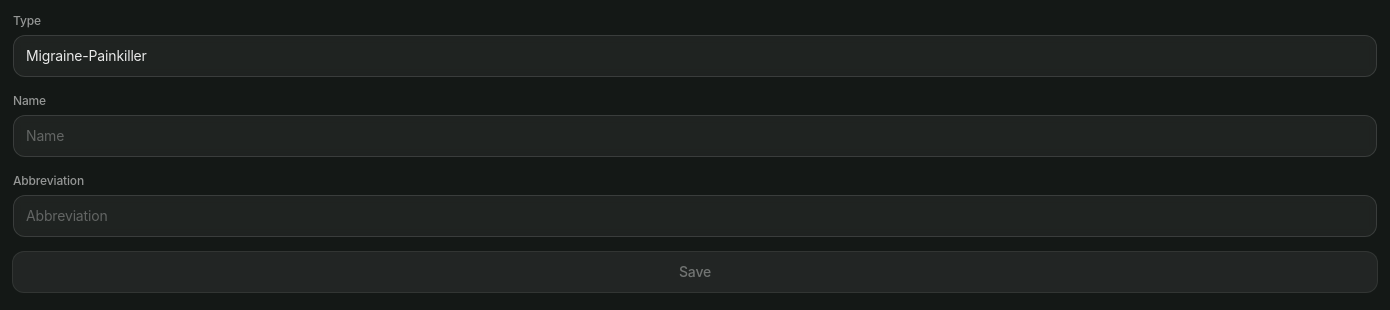
<AddMedicineForm /> › disables button while submitting
Type "Test medicine" into the field labelled "Name". click: (695, 136)
box: 13,115 -> 1377,157
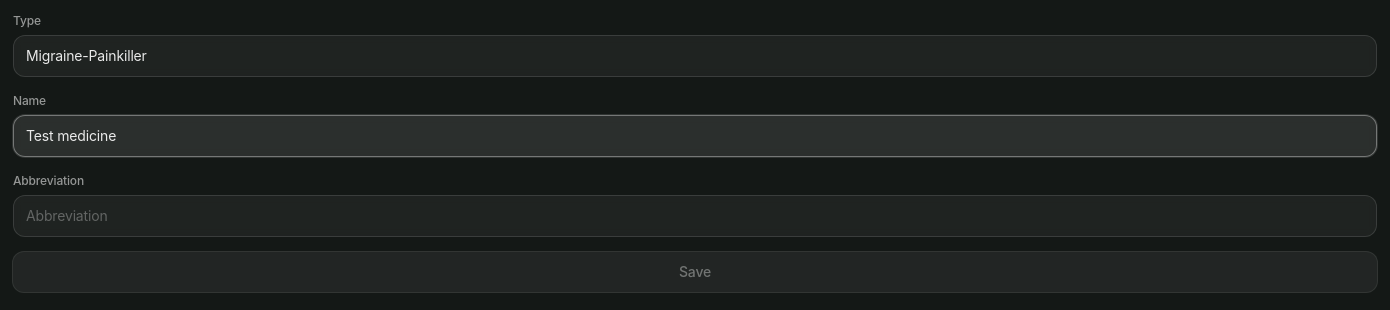
Type "tst_med" into the field labelled "Abbreviation". click: (695, 216)
box: 13,195 -> 1377,237
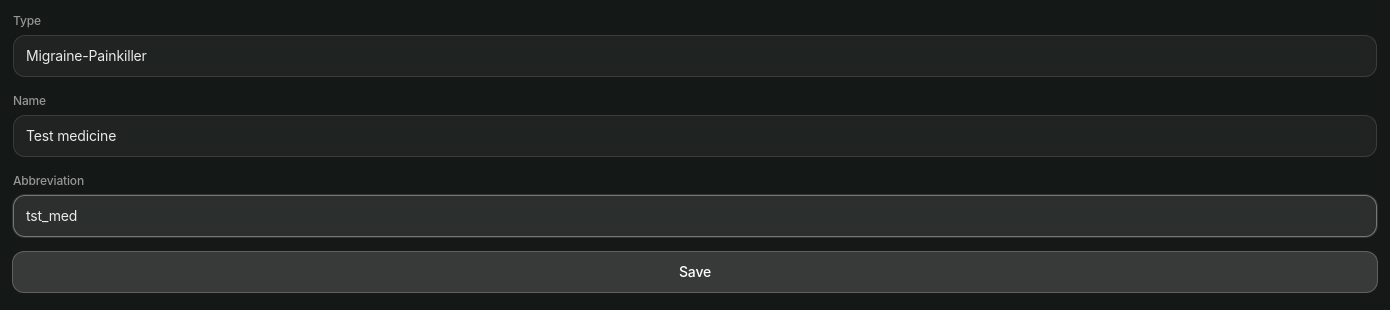
Click the button "Save". click: (695, 272)
box: 12,251 -> 1378,293
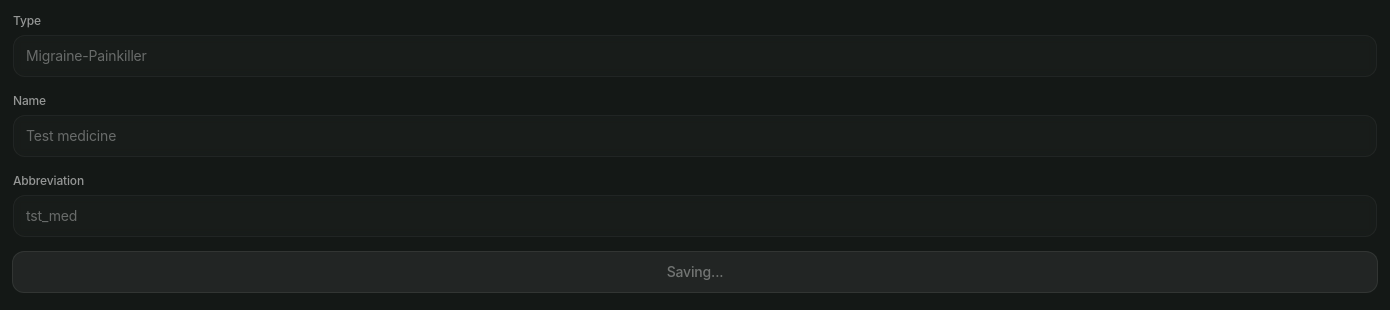
Expected: the button named "Save" reads "Saving...", 12,251 -> 1378,293
Expected: the button named "Save" is disabled, 12,251 -> 1378,293
